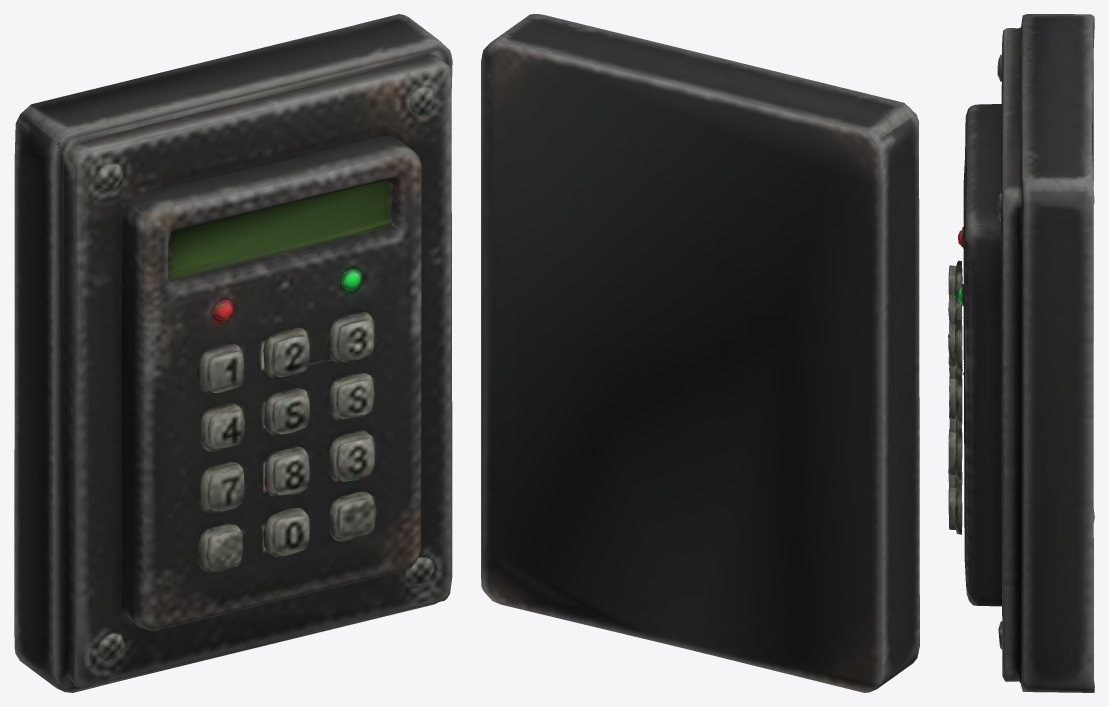
File: keypad.glb
3 views of the same model, side by side, from view 1: azimuth 30°, elevation 25°; view 2: azimuth 150°, elevation 25°; view 3: azimuth 270°, elevation 25° (orthographic). The views are drawn at different scales.
Size of the model in its own units: 0.7483 by 1 by 0.2589.
Materials: 1 (1 with a texture image).
